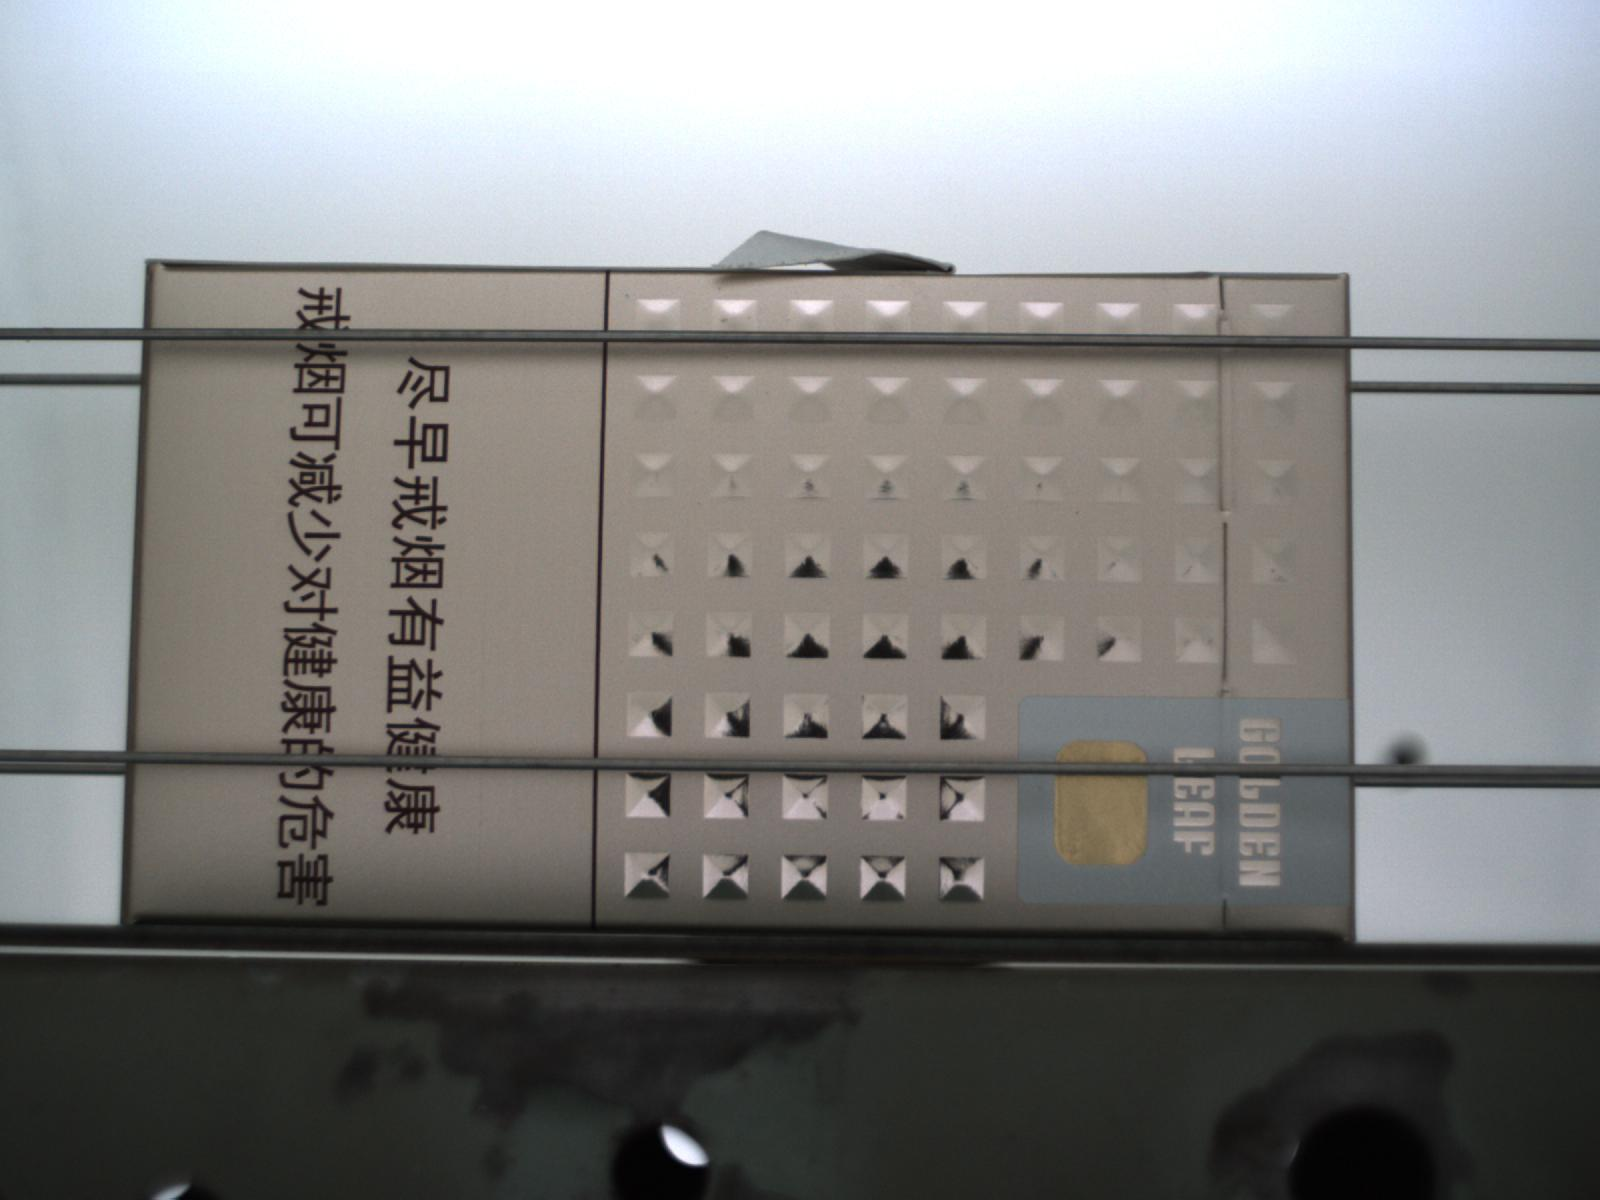dirtyScratch: (472, 610, 504, 851)
dirtySpot: (621, 292, 632, 303), (1073, 508, 1082, 517)
outerFold_upper_01: (709, 226, 961, 284)
